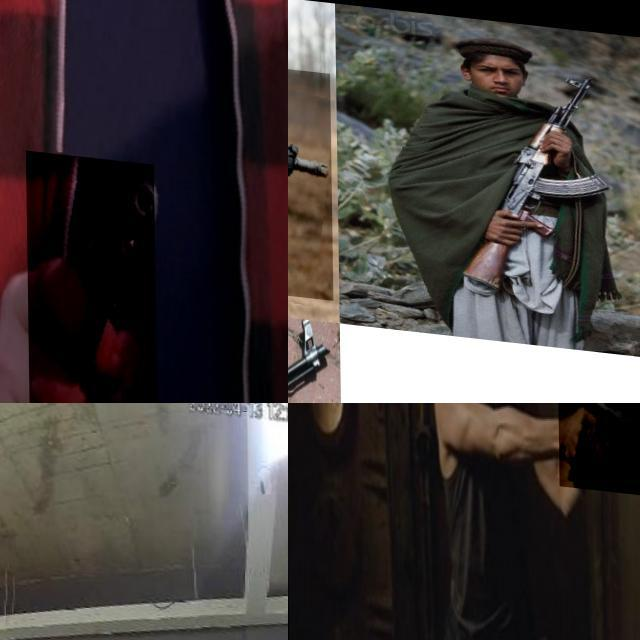gun-knife-thesis - v11 Yolov5 augmented: (288, 39, 440, 293), (459, 53, 608, 284), (24, 144, 156, 403), (557, 403, 640, 487)
